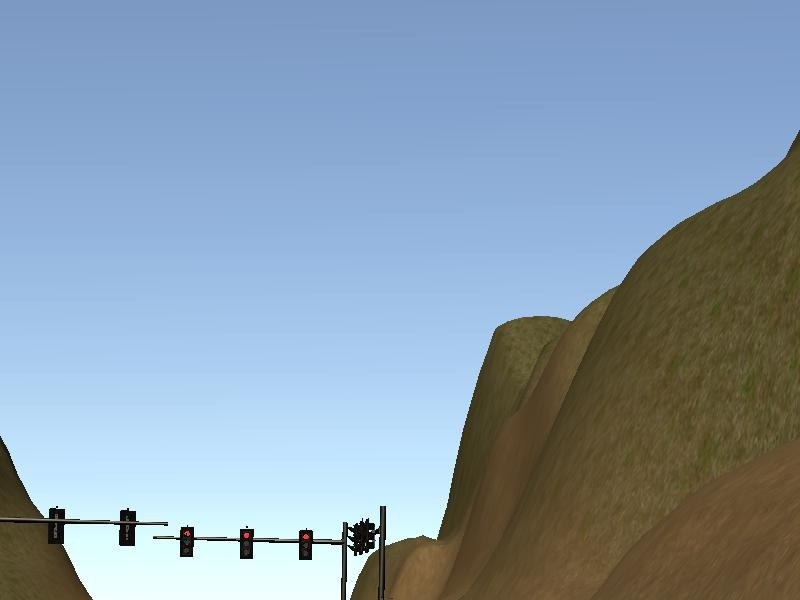traffic_light_red: (163, 525, 340, 561)
